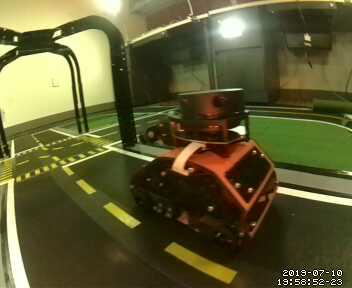pheeno: (128, 85, 281, 252)
